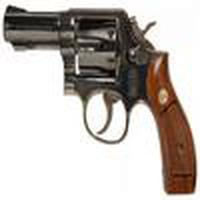gun: (3, 1, 200, 198)
